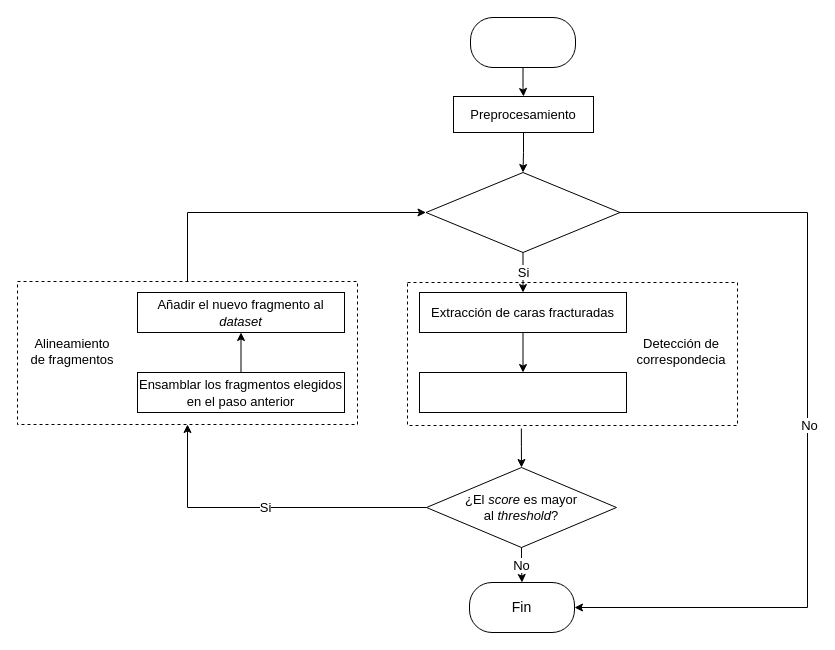
Image size: 835x650. Some labels were removed from this diagram. The shapes that lost their labels are listed below. From the top down, each one's box as (x1, y1, x2, y2) in pixels, then its label:
(470, 16, 576, 68): Inicio
(425, 172, 620, 252): ¿Más de un fragmento?
(418, 372, 626, 412): Calcular el score la similitud entre los fragmentos
